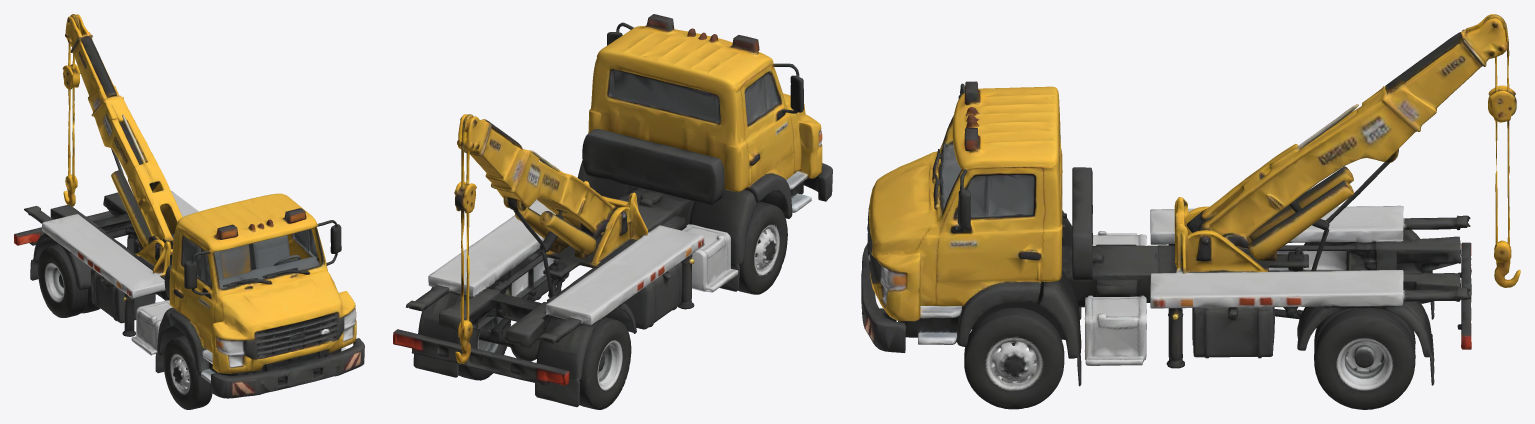
File: 065_tow_truck_wrecker.glb
3 views of the same model, side by side, from view 1: azimuth 30°, elevation 25°; view 2: azimuth 150°, elevation 25°; view 3: azimuth 270°, elevation 25° (orthographic). The views are drawn at different scales.
Visible parts, largest first — view 1: geometry_0; view 2: geometry_0; view 3: geometry_0.
Part boxes in pixels (box(x1,y1,x2,y2)): geometry_0: box(14, 14, 364, 409); geometry_0: box(393, 14, 832, 409); geometry_0: box(861, 14, 1520, 409).
Bounding box in the file's own units: 2.86 × 4.41 × 7.5.
1 material, 1 textured.
